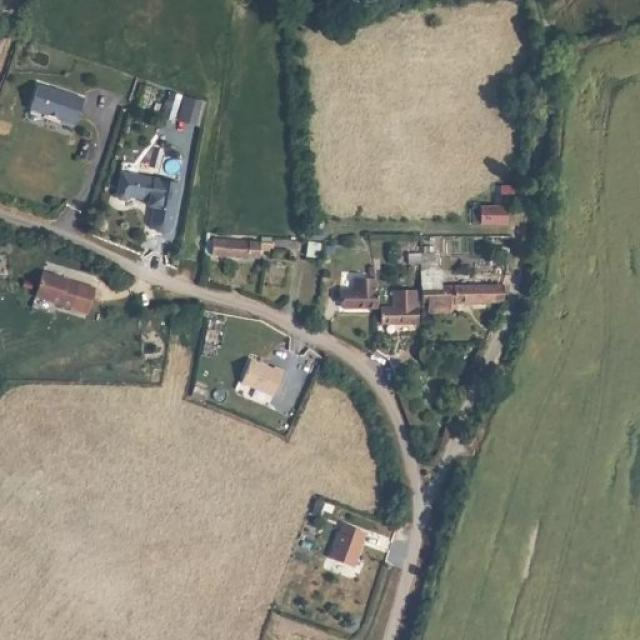maison: (139, 88, 210, 154), (303, 498, 370, 566), (29, 256, 97, 322), (11, 72, 87, 130), (111, 170, 178, 231), (427, 271, 520, 314), (373, 272, 430, 333), (232, 347, 288, 406), (335, 250, 385, 316), (472, 201, 520, 234), (207, 236, 271, 258)
piscine: (161, 151, 186, 181)
